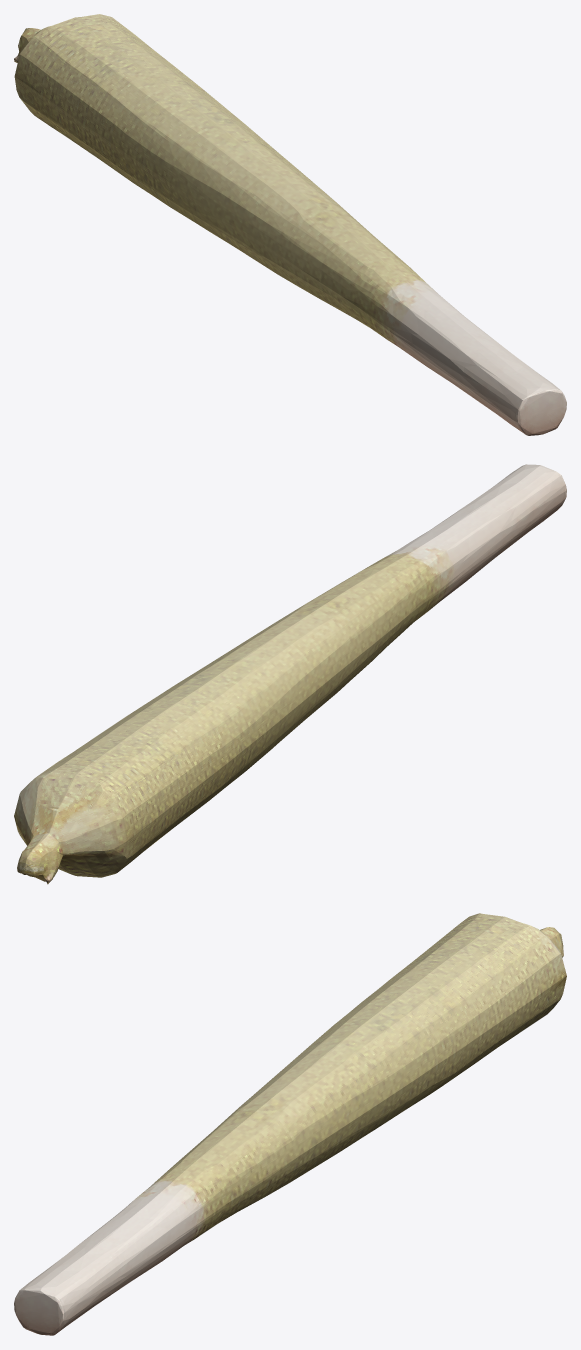
Rendered from cigarette.glb.
3 views of the same model, one above another, from view 1: azimuth 30°, elevation 25°; view 2: azimuth 150°, elevation 25°; view 3: azimuth 330°, elevation 25° (orthographic).
Parts seen in each view (by area): view 1: world; view 2: world; view 3: world.
Boxes of the visible parts, x1,y1,x2,y2 form: world: (14, 14, 566, 435); world: (14, 464, 566, 884); world: (14, 913, 566, 1335).
Size of the model in its own units: 0.1245 by 0.11 by 1.
1 material, 1 textured.
